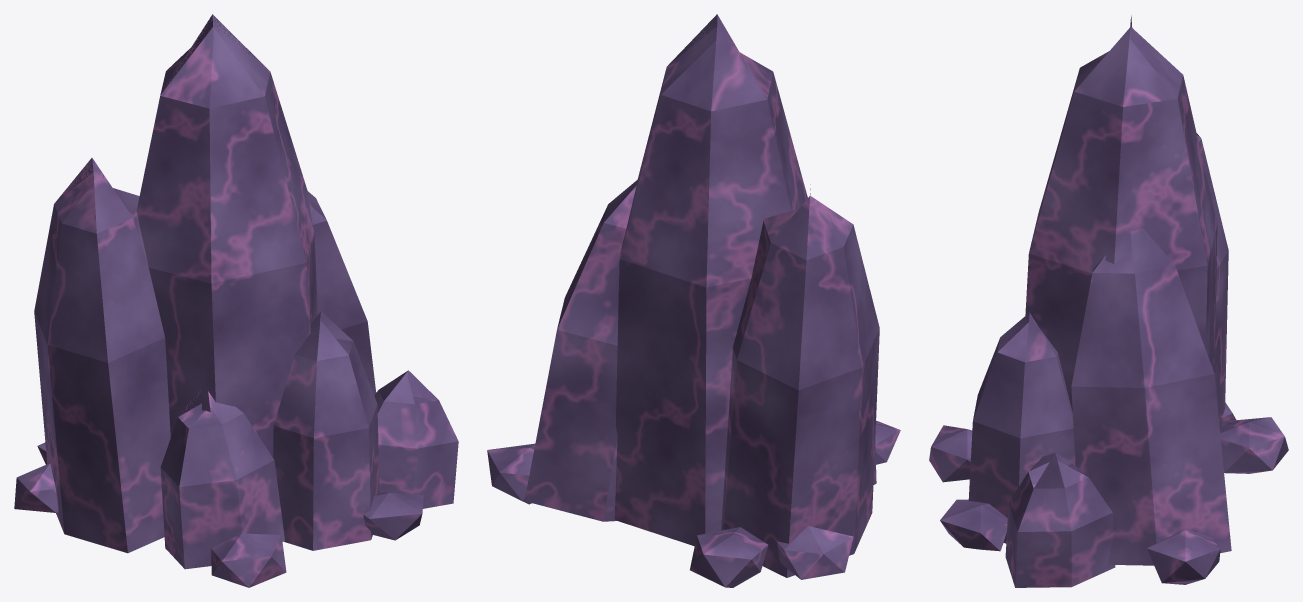
Rendered from GIN_UG_RockSpire.fbx.
3 views of the same model, side by side, from view 1: azimuth 30°, elevation 25°; view 2: azimuth 150°, elevation 25°; view 3: azimuth 270°, elevation 25° (orthographic). The views are drawn at different scales.
Parts seen in each view (by area): view 1: GIN_UG_RockSpire; view 2: GIN_UG_RockSpire; view 3: GIN_UG_RockSpire.
Boxes of the visible parts, x1,y1,x2,y2 form: GIN_UG_RockSpire: (14,14,458,587); GIN_UG_RockSpire: (487,14,900,587); GIN_UG_RockSpire: (929,15,1288,587).
Bounding box in the file's own units: 2.08 × 2.76 × 1.81.
